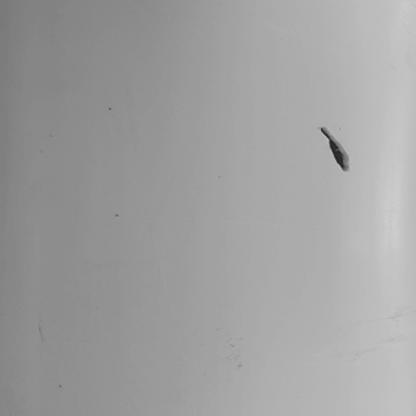kongdong: (316, 125, 354, 175)
